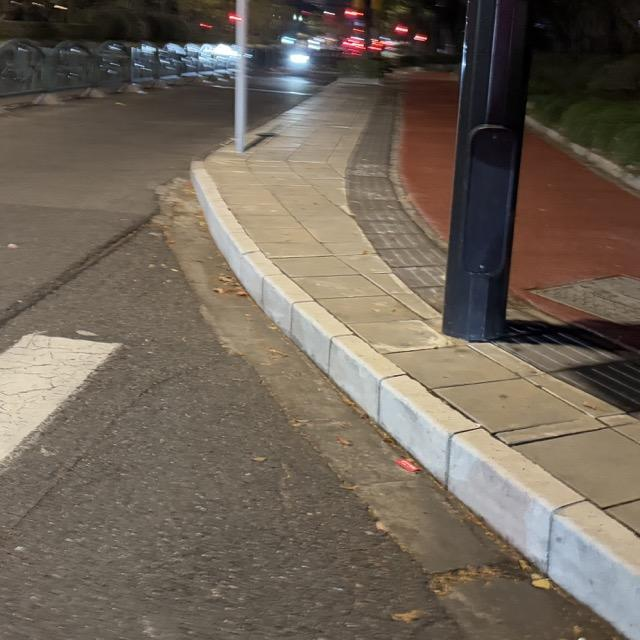curb: (193, 165, 639, 639), (526, 118, 639, 196)
